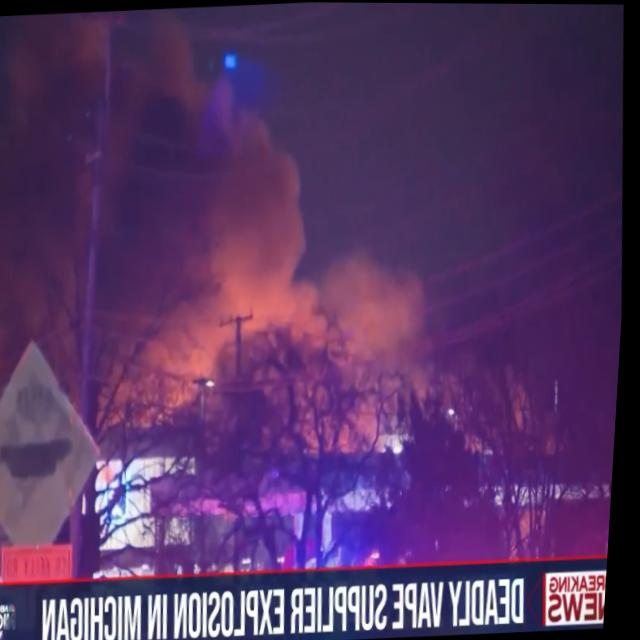Fire: (102, 158, 416, 410)
